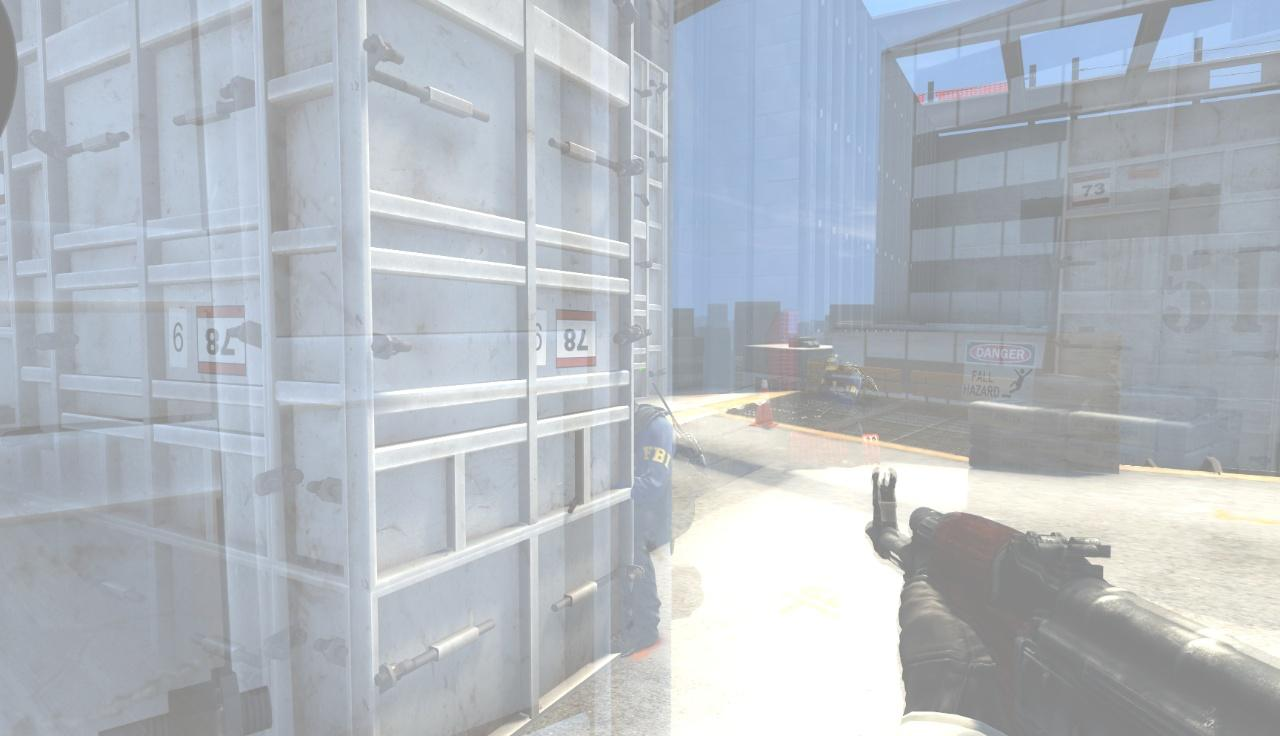ct: (631, 395, 683, 648), (821, 355, 873, 435)
cthead: (822, 355, 843, 378)
rifle: (862, 466, 1280, 736)
